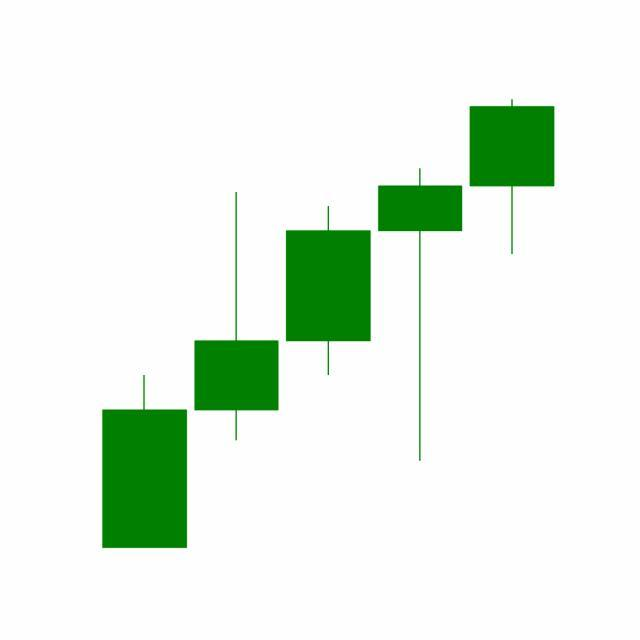Hanging Man: (374, 165, 468, 465)
